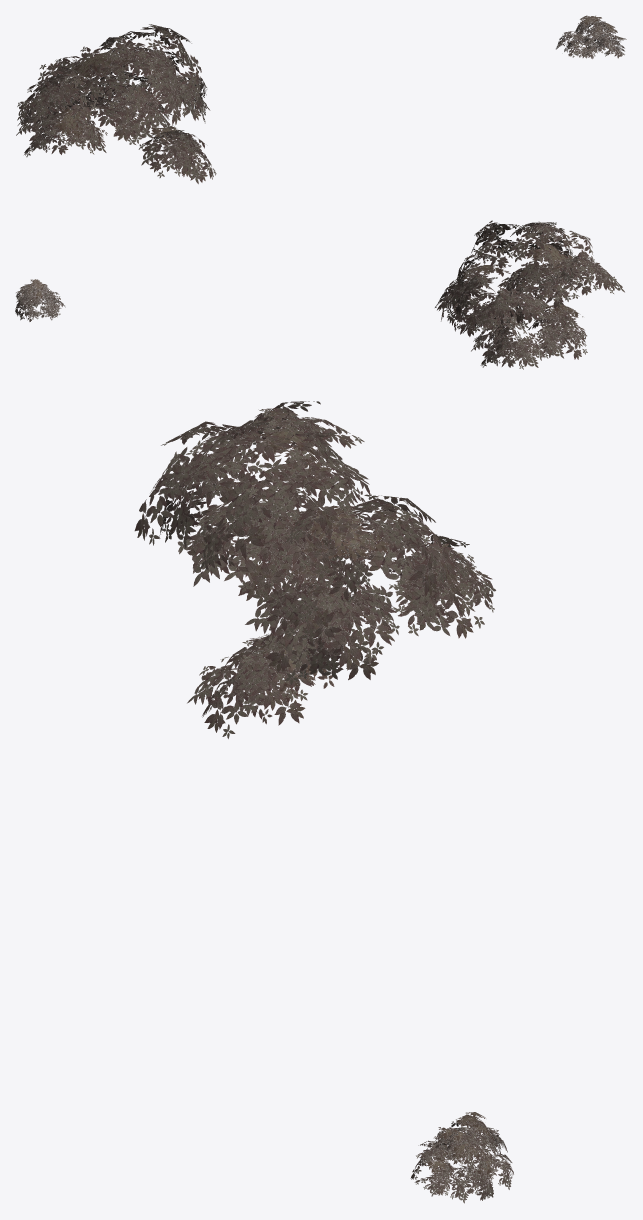
File: Area06_14.FBX
3 renders of one model, top to bottom at view 1: azimuth 30°, elevation 25°; view 2: azimuth 150°, elevation 25°; view 3: azimuth 270°, elevation 25°, orthographic. The views are drawn at different scales.
Parts seen in each view (by area): view 1: Area06_14; view 2: Area06_14; view 3: Area06_14.
Part boxes in pixels (x1,y1,x2,y2): Area06_14: [16, 15, 626, 184]; Area06_14: [15, 220, 624, 369]; Area06_14: [134, 401, 513, 1203].
Size of the model in its own units: 4385 by 1253 by 1329.
